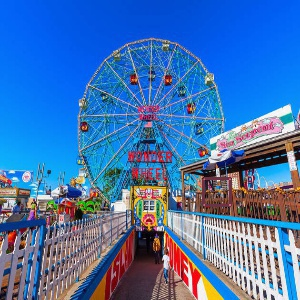square: (201, 176, 232, 208)
